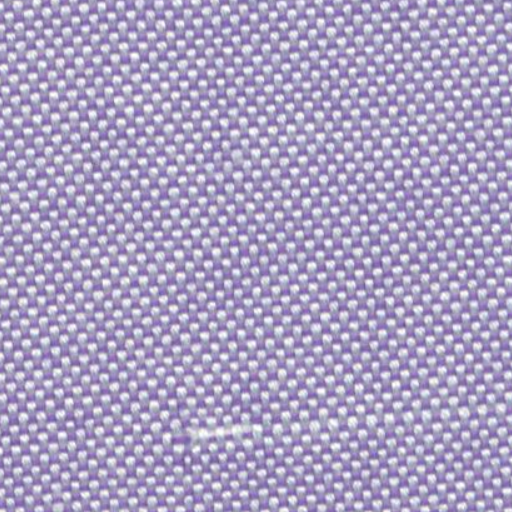DaiSha: (186, 402, 498, 454)
